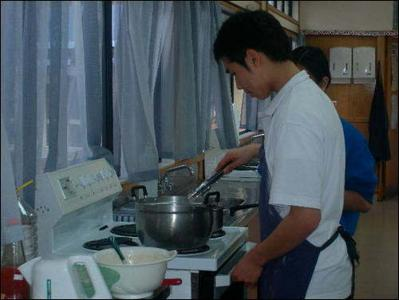person: (213, 11, 357, 300)
